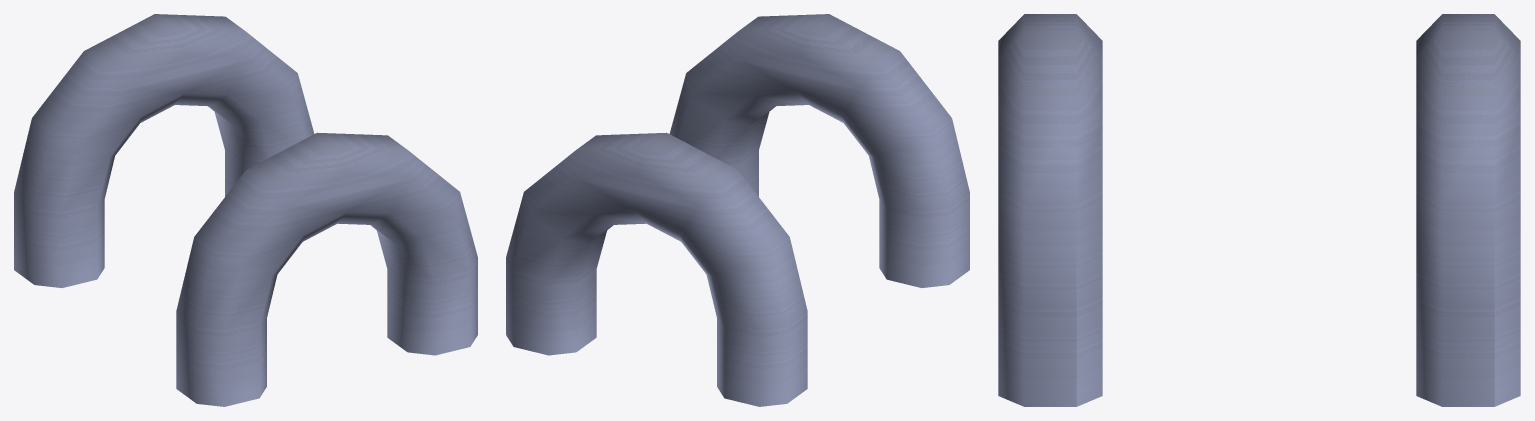
File: ladder-top.glb
3 renders of one model, left to right at view 1: azimuth 30°, elevation 25°; view 2: azimuth 150°, elevation 25°; view 3: azimuth 270°, elevation 25°, orthographic. The views are drawn at different scales.
Parts seen in each view (by area): view 1: ladder-top-col; view 2: ladder-top-col; view 3: ladder-top-col.
Boxes of the visible parts, x1,y1,x2,y2 form: ladder-top-col: [14, 14, 477, 406]; ladder-top-col: [506, 14, 969, 406]; ladder-top-col: [998, 14, 1520, 406].
Bounding box in the file's own units: 0.4 × 0.3018 × 0.5.
1 material, 1 textured.
